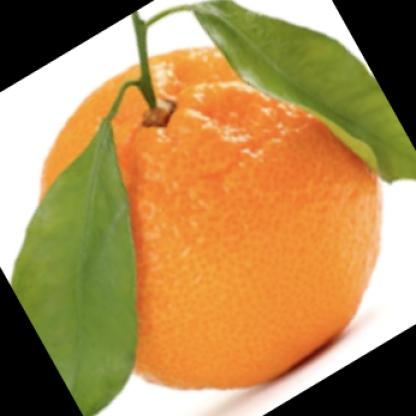fresh: (38, 46, 382, 388)
